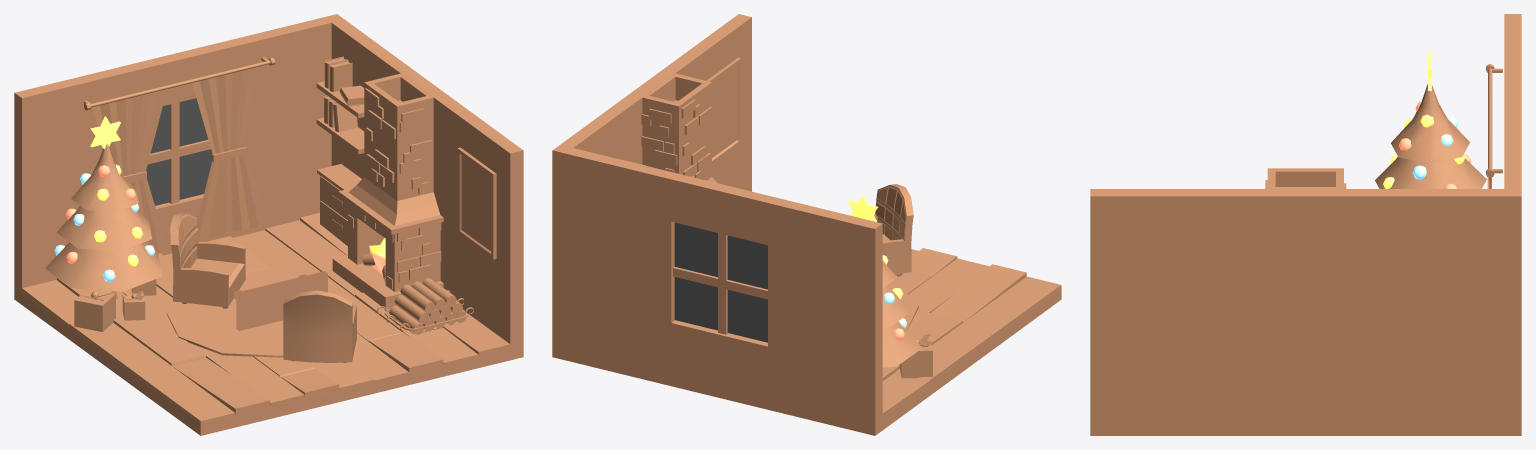
Rendered from Pair2_TWEAKED_color_table.glb.
The picture shows the model from 3 angles, left to right: view 1: azimuth 30°, elevation 25°; view 2: azimuth 150°, elevation 25°; view 3: azimuth 270°, elevation 25°; orthographic projection. The views are drawn at different scales.
Visible parts, largest first — view 1: Room, Floor, Fireplace, Christmas_tree, Curtain2, Chair1, Chair2, Curtain1, Rug, Glass, Picture, Wood (+10 smaller); view 2: Room, Floor, Glass, Fireplace, Christmas_tree, Chair2, Picture, Window, Present1; view 3: Room, Christmas_tree, Fireplace, Curtain_rod_Material #246_0.
Part boxes in pixels (x1=…): Room: x1=14, y1=14, x2=523, y2=435; Floor: x1=22, y1=213, x2=510, y2=422; Fireplace: x1=332, y1=73, x2=443, y2=309; Christmas_tree: x1=45, y1=116, x2=162, y2=298; Curtain2: x1=192, y1=64, x2=267, y2=240; Chair1: x1=170, y1=212, x2=245, y2=308; Chair2: x1=283, y1=290, x2=356, y2=362; Curtain1: x1=92, y1=89, x2=167, y2=251; Rug: x1=166, y1=277, x2=343, y2=357; Glass: x1=146, y1=98, x2=212, y2=205; Picture: x1=457, y1=147, x2=496, y2=259; Wood: x1=389, y1=278, x2=466, y2=334; Room: x1=552, y1=14, x2=1061, y2=435; Floor: x1=882, y1=248, x2=1061, y2=417; Glass: x1=674, y1=222, x2=767, y2=342; Fireplace: x1=641, y1=73, x2=716, y2=182; Christmas_tree: x1=848, y1=195, x2=922, y2=367; Chair2: x1=874, y1=184, x2=913, y2=276; Picture: x1=706, y1=57, x2=741, y2=164; Window: x1=673, y1=233, x2=767, y2=334; Present1: x1=899, y1=334, x2=932, y2=378; Room: x1=1090, y1=14, x2=1521, y2=435; Christmas_tree: x1=1375, y1=52, x2=1486, y2=188; Fireplace: x1=1265, y1=168, x2=1346, y2=188; Curtain_rod_Material #246_0: x1=1486, y1=64, x2=1502, y2=177.
Bounding box in the file's own units: 400 × 290 × 400.
